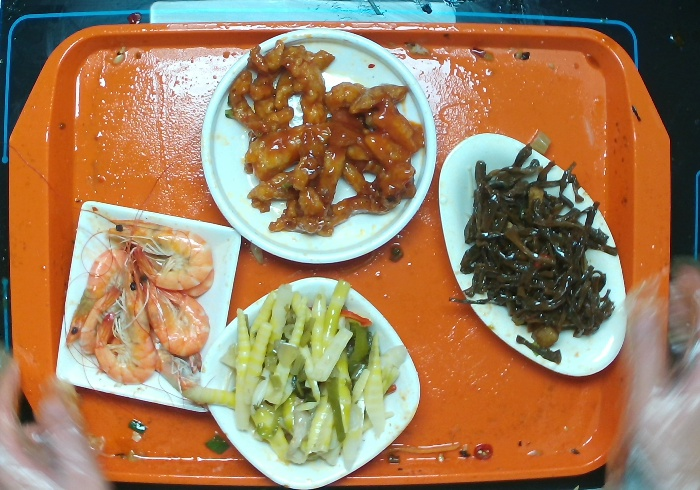HZYJPL-Si_Fang_Die: (43, 196, 243, 413)
HZYJPL-Si_Fang_Yuan_Die: (191, 270, 424, 486)
HZYJPL-Xiao_Yu_Die: (434, 126, 630, 385)
HZYJPL-Xiao_Yuan_Die: (200, 22, 440, 269)
